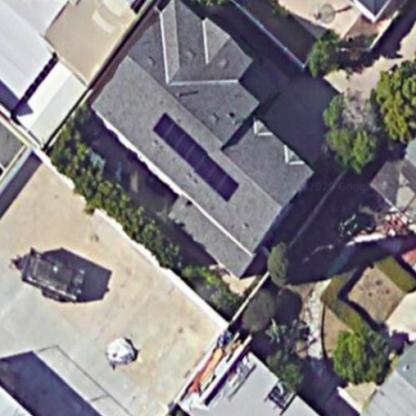solar_panel: (140, 102, 247, 211)
